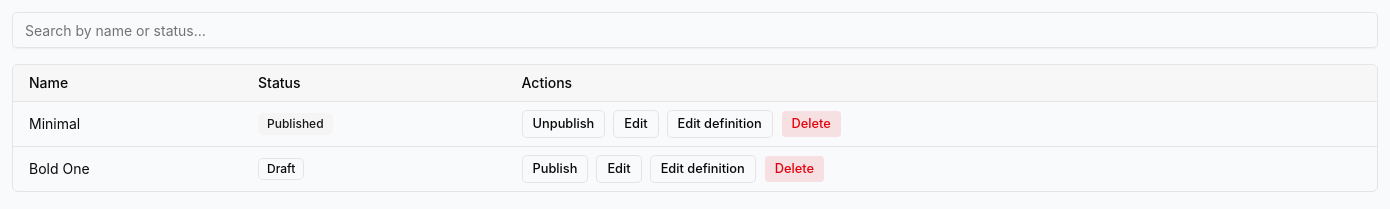
Test: TemplateManager › filters templates by name and status, and shows the empty state for no matches
Expected: the text "Minimal" is shown, [13,102,242,146]
// Filter by name
Step 1. Type "minimal" into the search field named "search templates" → (695, 30), box [12,12,1378,48]
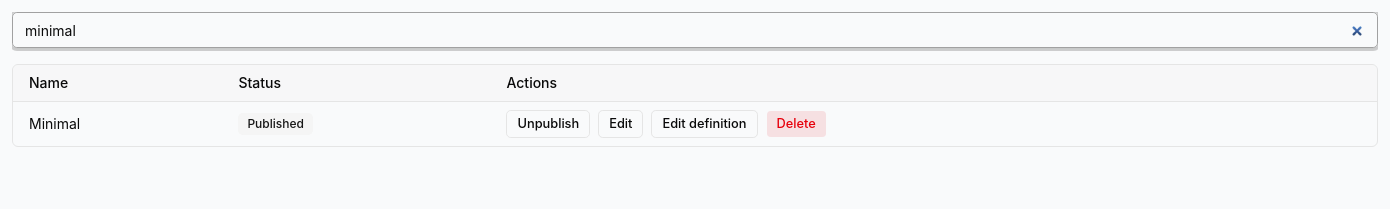
Expected: the text "Minimal" is shown, [13,102,222,146]
Expected: the text "Bold One" is gone
// Filter by status
Step 2. Replace the text in the search field named "search templates" with "draft" → (695, 30), box [12,12,1378,48]
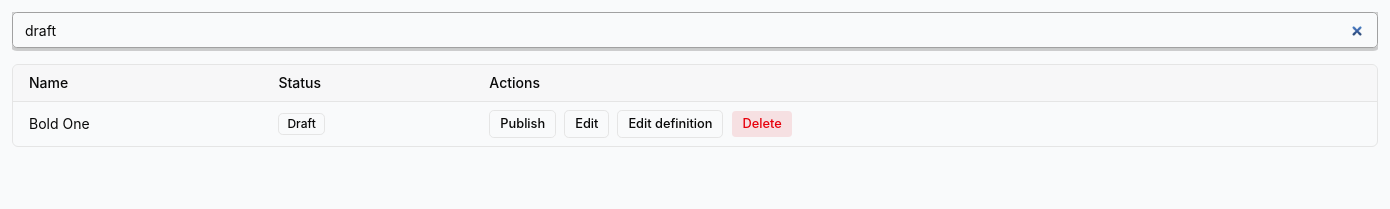
Expected: the text "Bold One" is shown, [13,102,262,146]
Expected: the text "Minimal" is gone
// Non-matching query shows empty state
Step 3. Replace the text in the search field named "search templates" with "zzz-no-match" → (695, 30), box [12,12,1378,48]
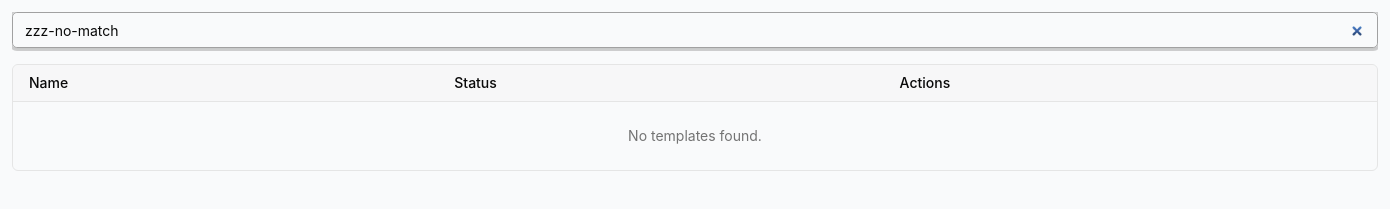
Expected: the text "No templates found." is shown, [13,102,1377,170]
